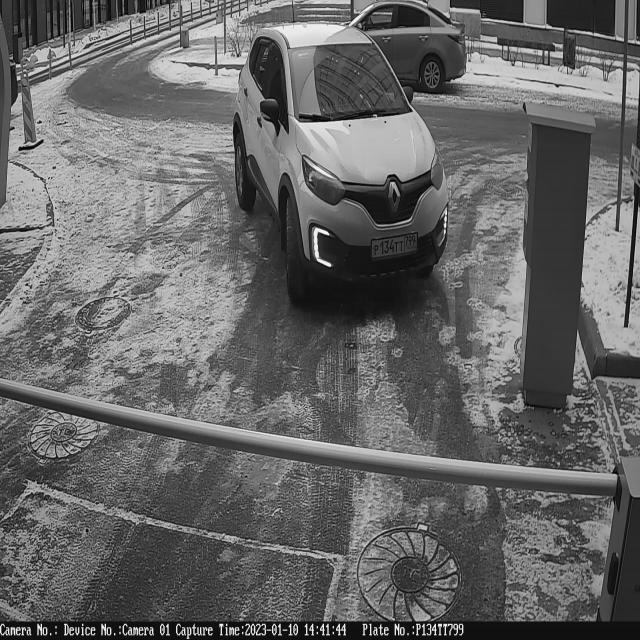car-plate-numbers: (369, 232, 423, 264)
